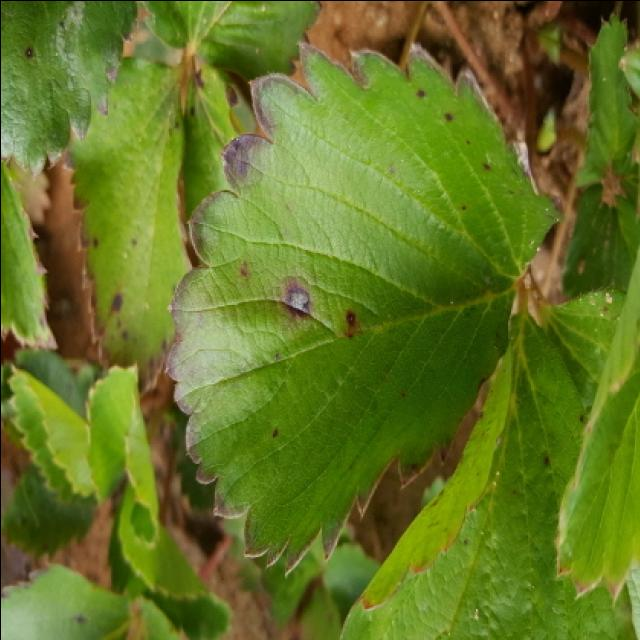Leaf Spot: (161, 39, 565, 578), (341, 306, 638, 640), (59, 54, 193, 399), (0, 2, 139, 178), (178, 64, 263, 221), (0, 159, 59, 351), (0, 565, 132, 640)
